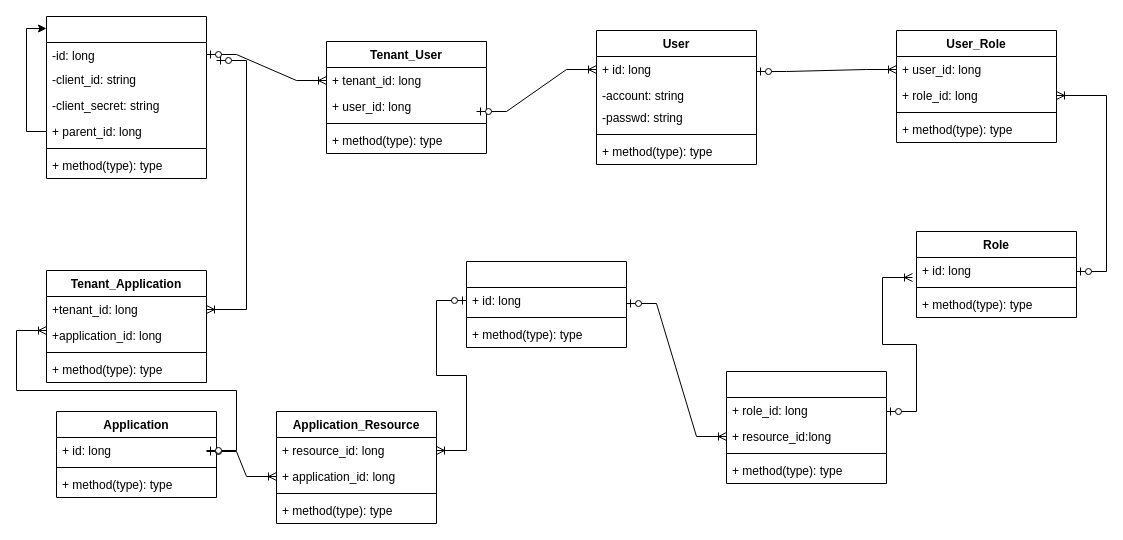
This 1123x540 diagram has some shape labels left out. Here are the shapes that lost their labels. From the top down, the box of each, then its label:
(46, 16, 206, 178): Tenant
(466, 260, 626, 348): Resource
(726, 370, 886, 484): Role_Resource
